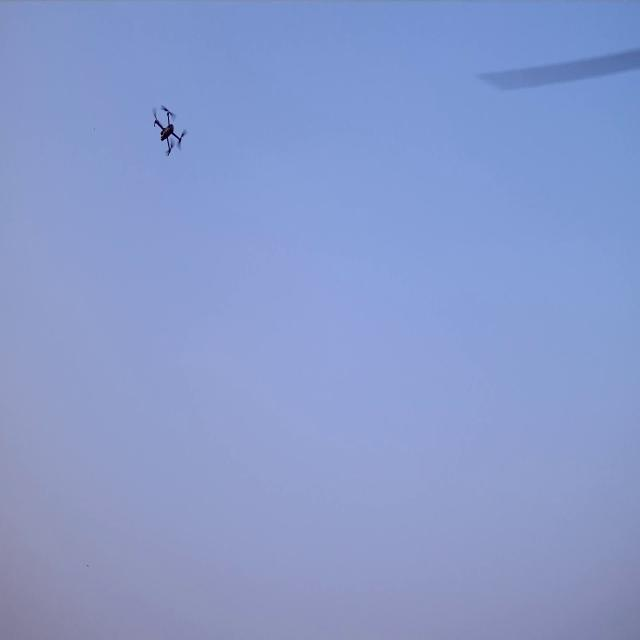UAV: (154, 108, 183, 155)
